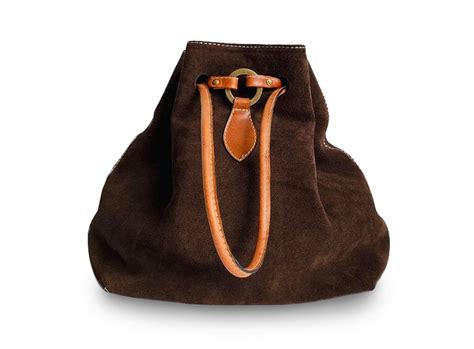gamuza: (88, 41, 390, 305)
